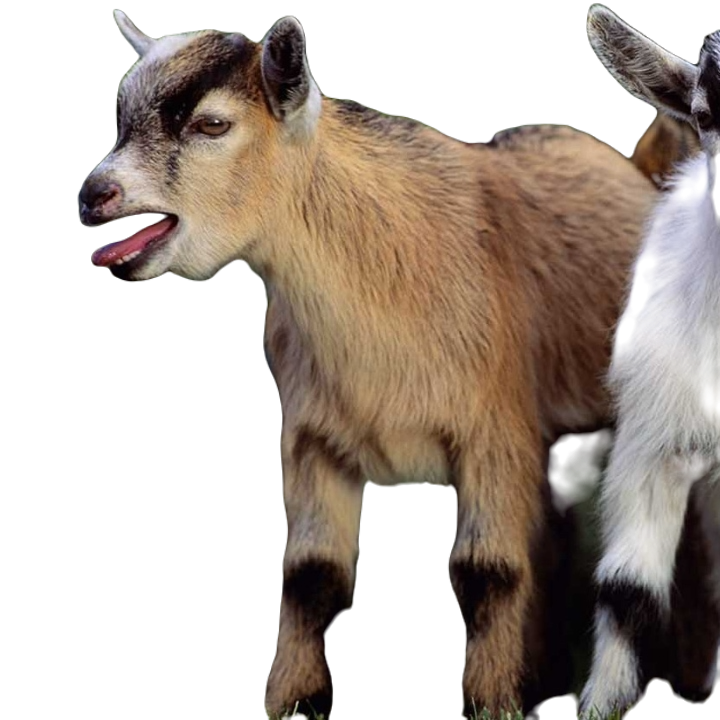Goat: (75, 3, 668, 719)
